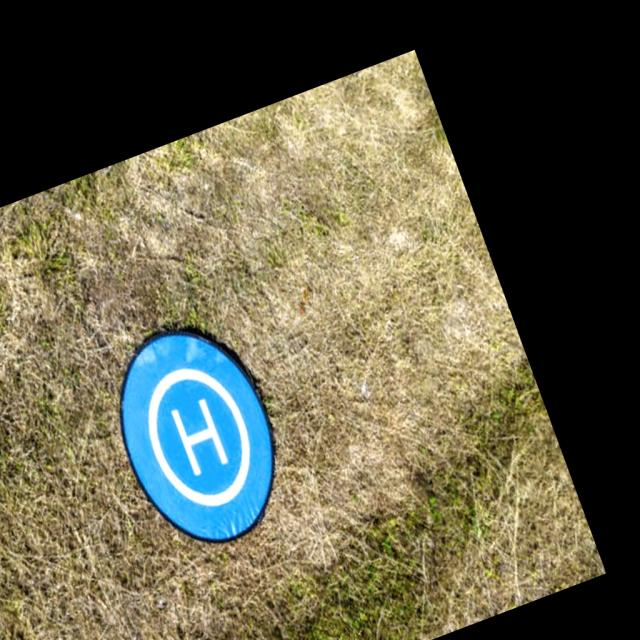helipad: (143, 364, 254, 510)
